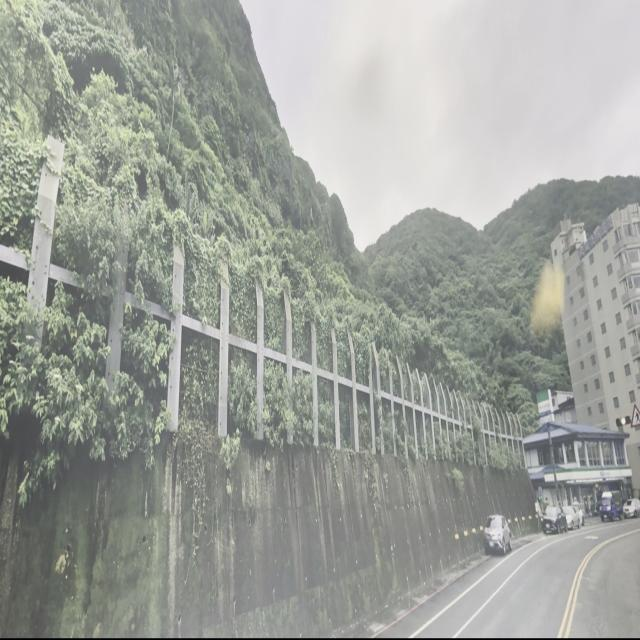Rock: (533, 268, 562, 334)
